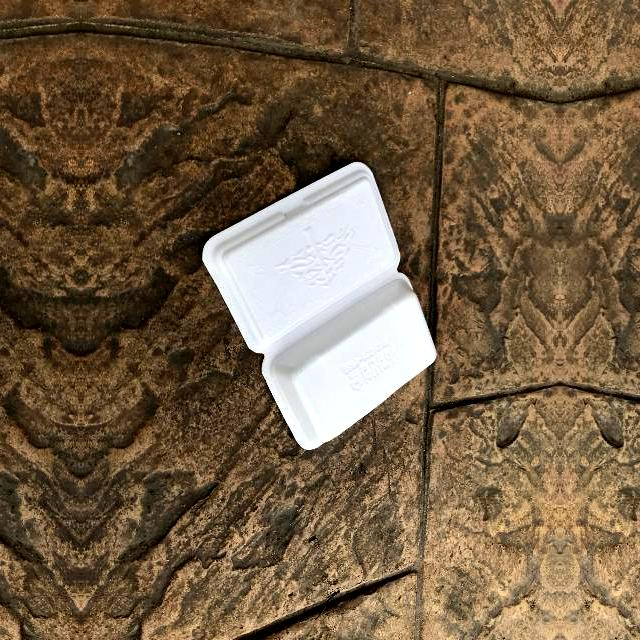Styrofoam: (202, 162, 436, 450), (202, 161, 436, 449)
